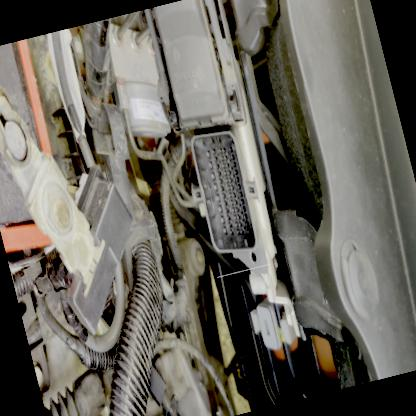Connector: (176, 104, 270, 278)
